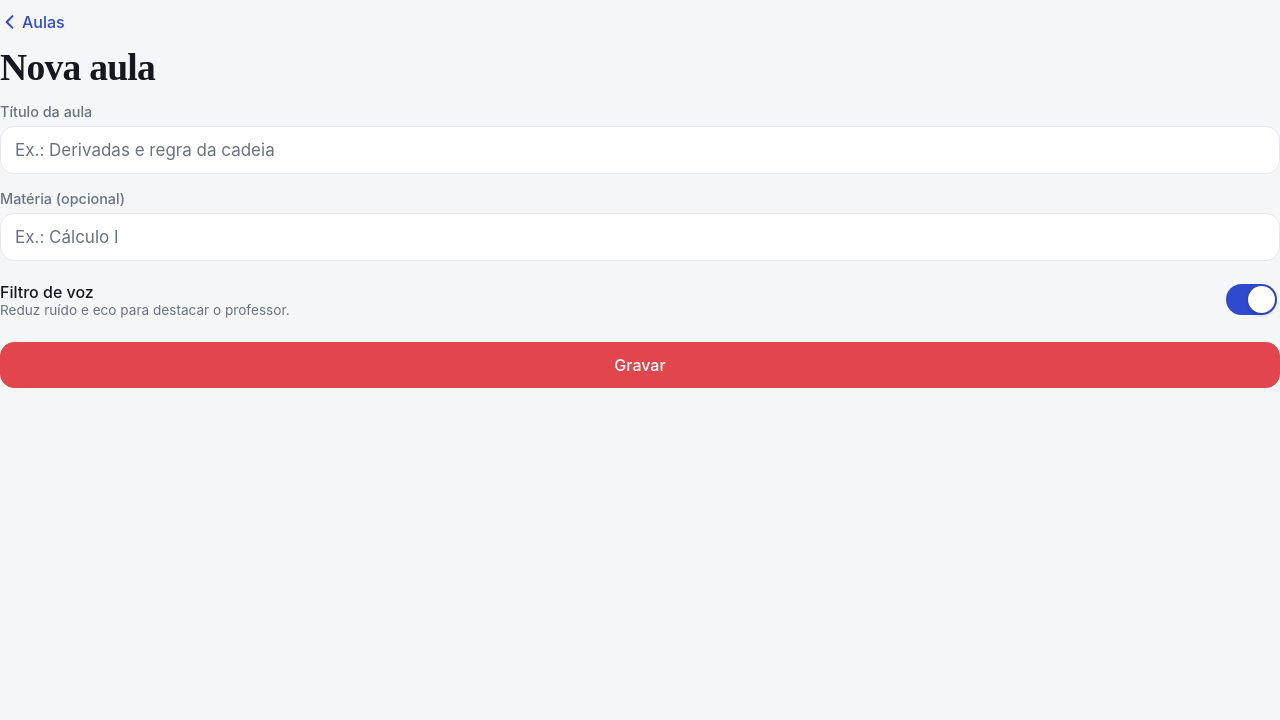
Test: RecordScreen › aviso de 1h30 pausa e pergunta
This screenshot has width=1280, height=720.
Type "Cálculo" into the field labelled "Título da aula" at coordinates (640, 150), box [0,126,1279,174]
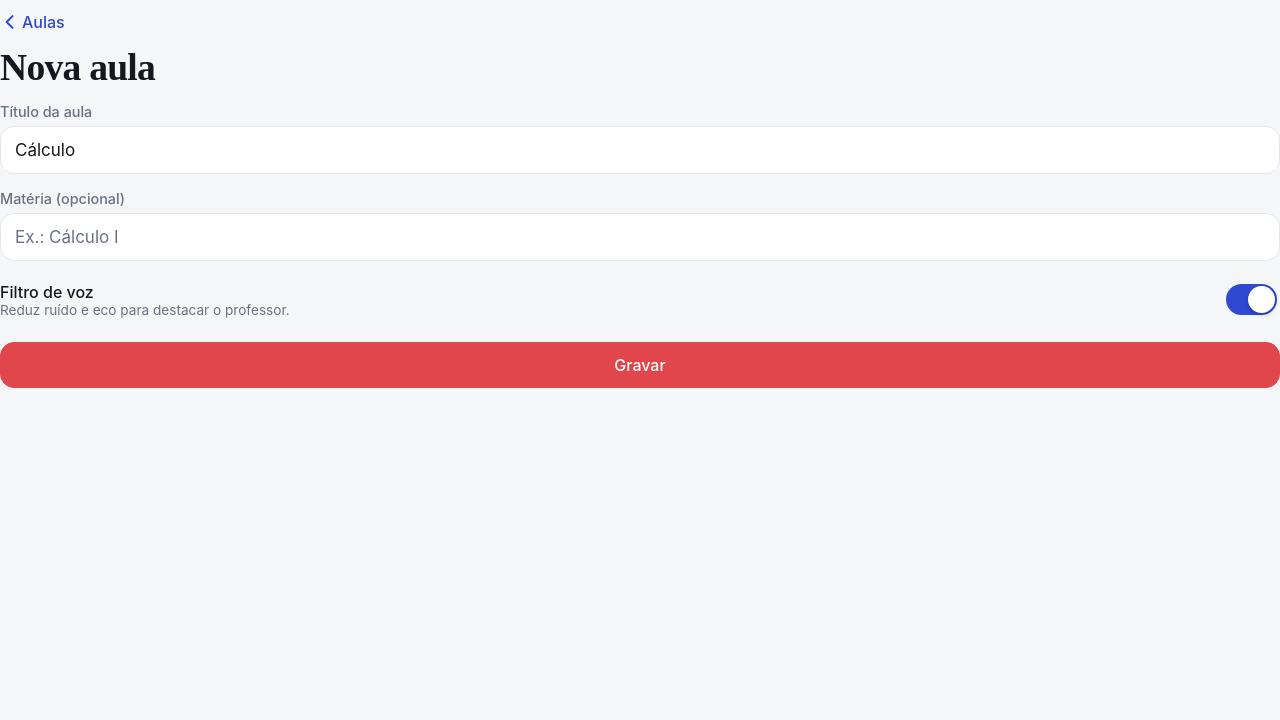
Click the button "Gravar" at coordinates (640, 366), box [0,342,1279,388]
Wait 1100 ms
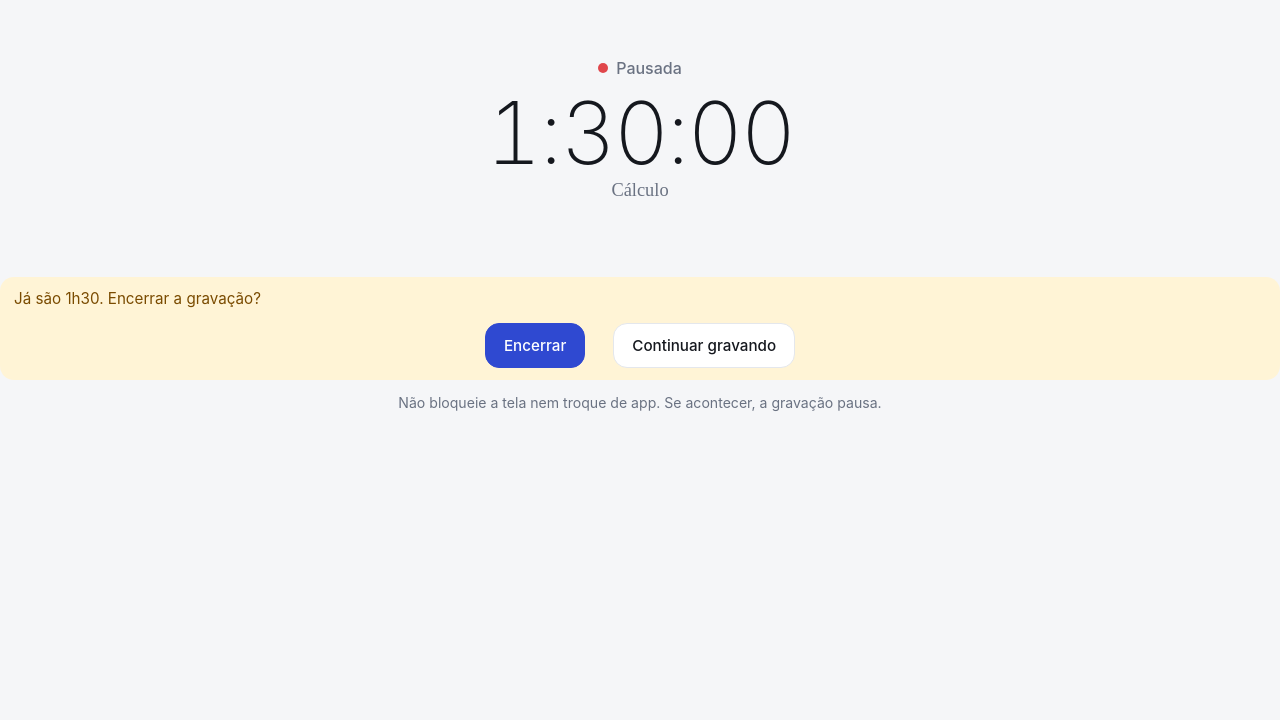
Expected: the text "Já são 1h30. Encerrar a gravação?" is shown, [14,289,261,308]
